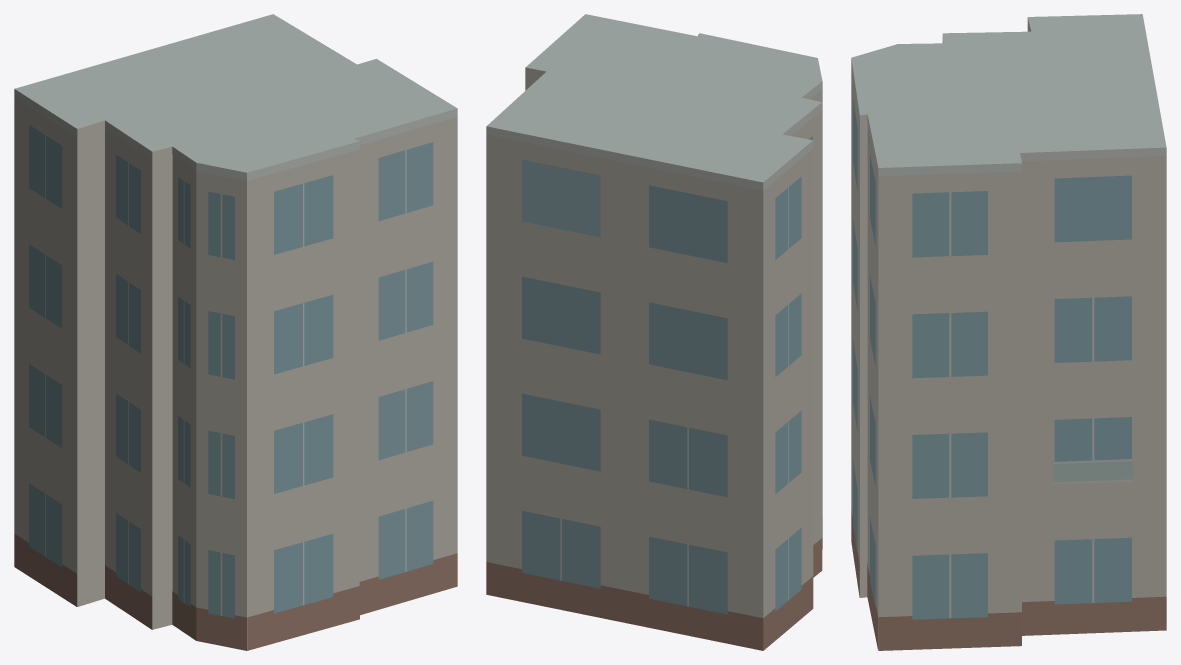
File: survey-upis-32622342.glb
The picture shows the model from 3 angles, left to right: view 1: azimuth 30°, elevation 25°; view 2: azimuth 150°, elevation 25°; view 3: azimuth 270°, elevation 25°; orthographic projection. The views are drawn at different scales.
Visible parts, largest first — view 1: survey-upis-32622342.tmp; view 2: survey-upis-32622342.tmp; view 3: survey-upis-32622342.tmp.
Part boxes in pixels (x1=…): survey-upis-32622342.tmp: x1=14, y1=14, x2=457, y2=650; survey-upis-32622342.tmp: x1=486, y1=14, x2=822, y2=650; survey-upis-32622342.tmp: x1=851, y1=14, x2=1166, y2=650.
Size of the model in its own units: 9.76 by 14.26 by 8.45.
